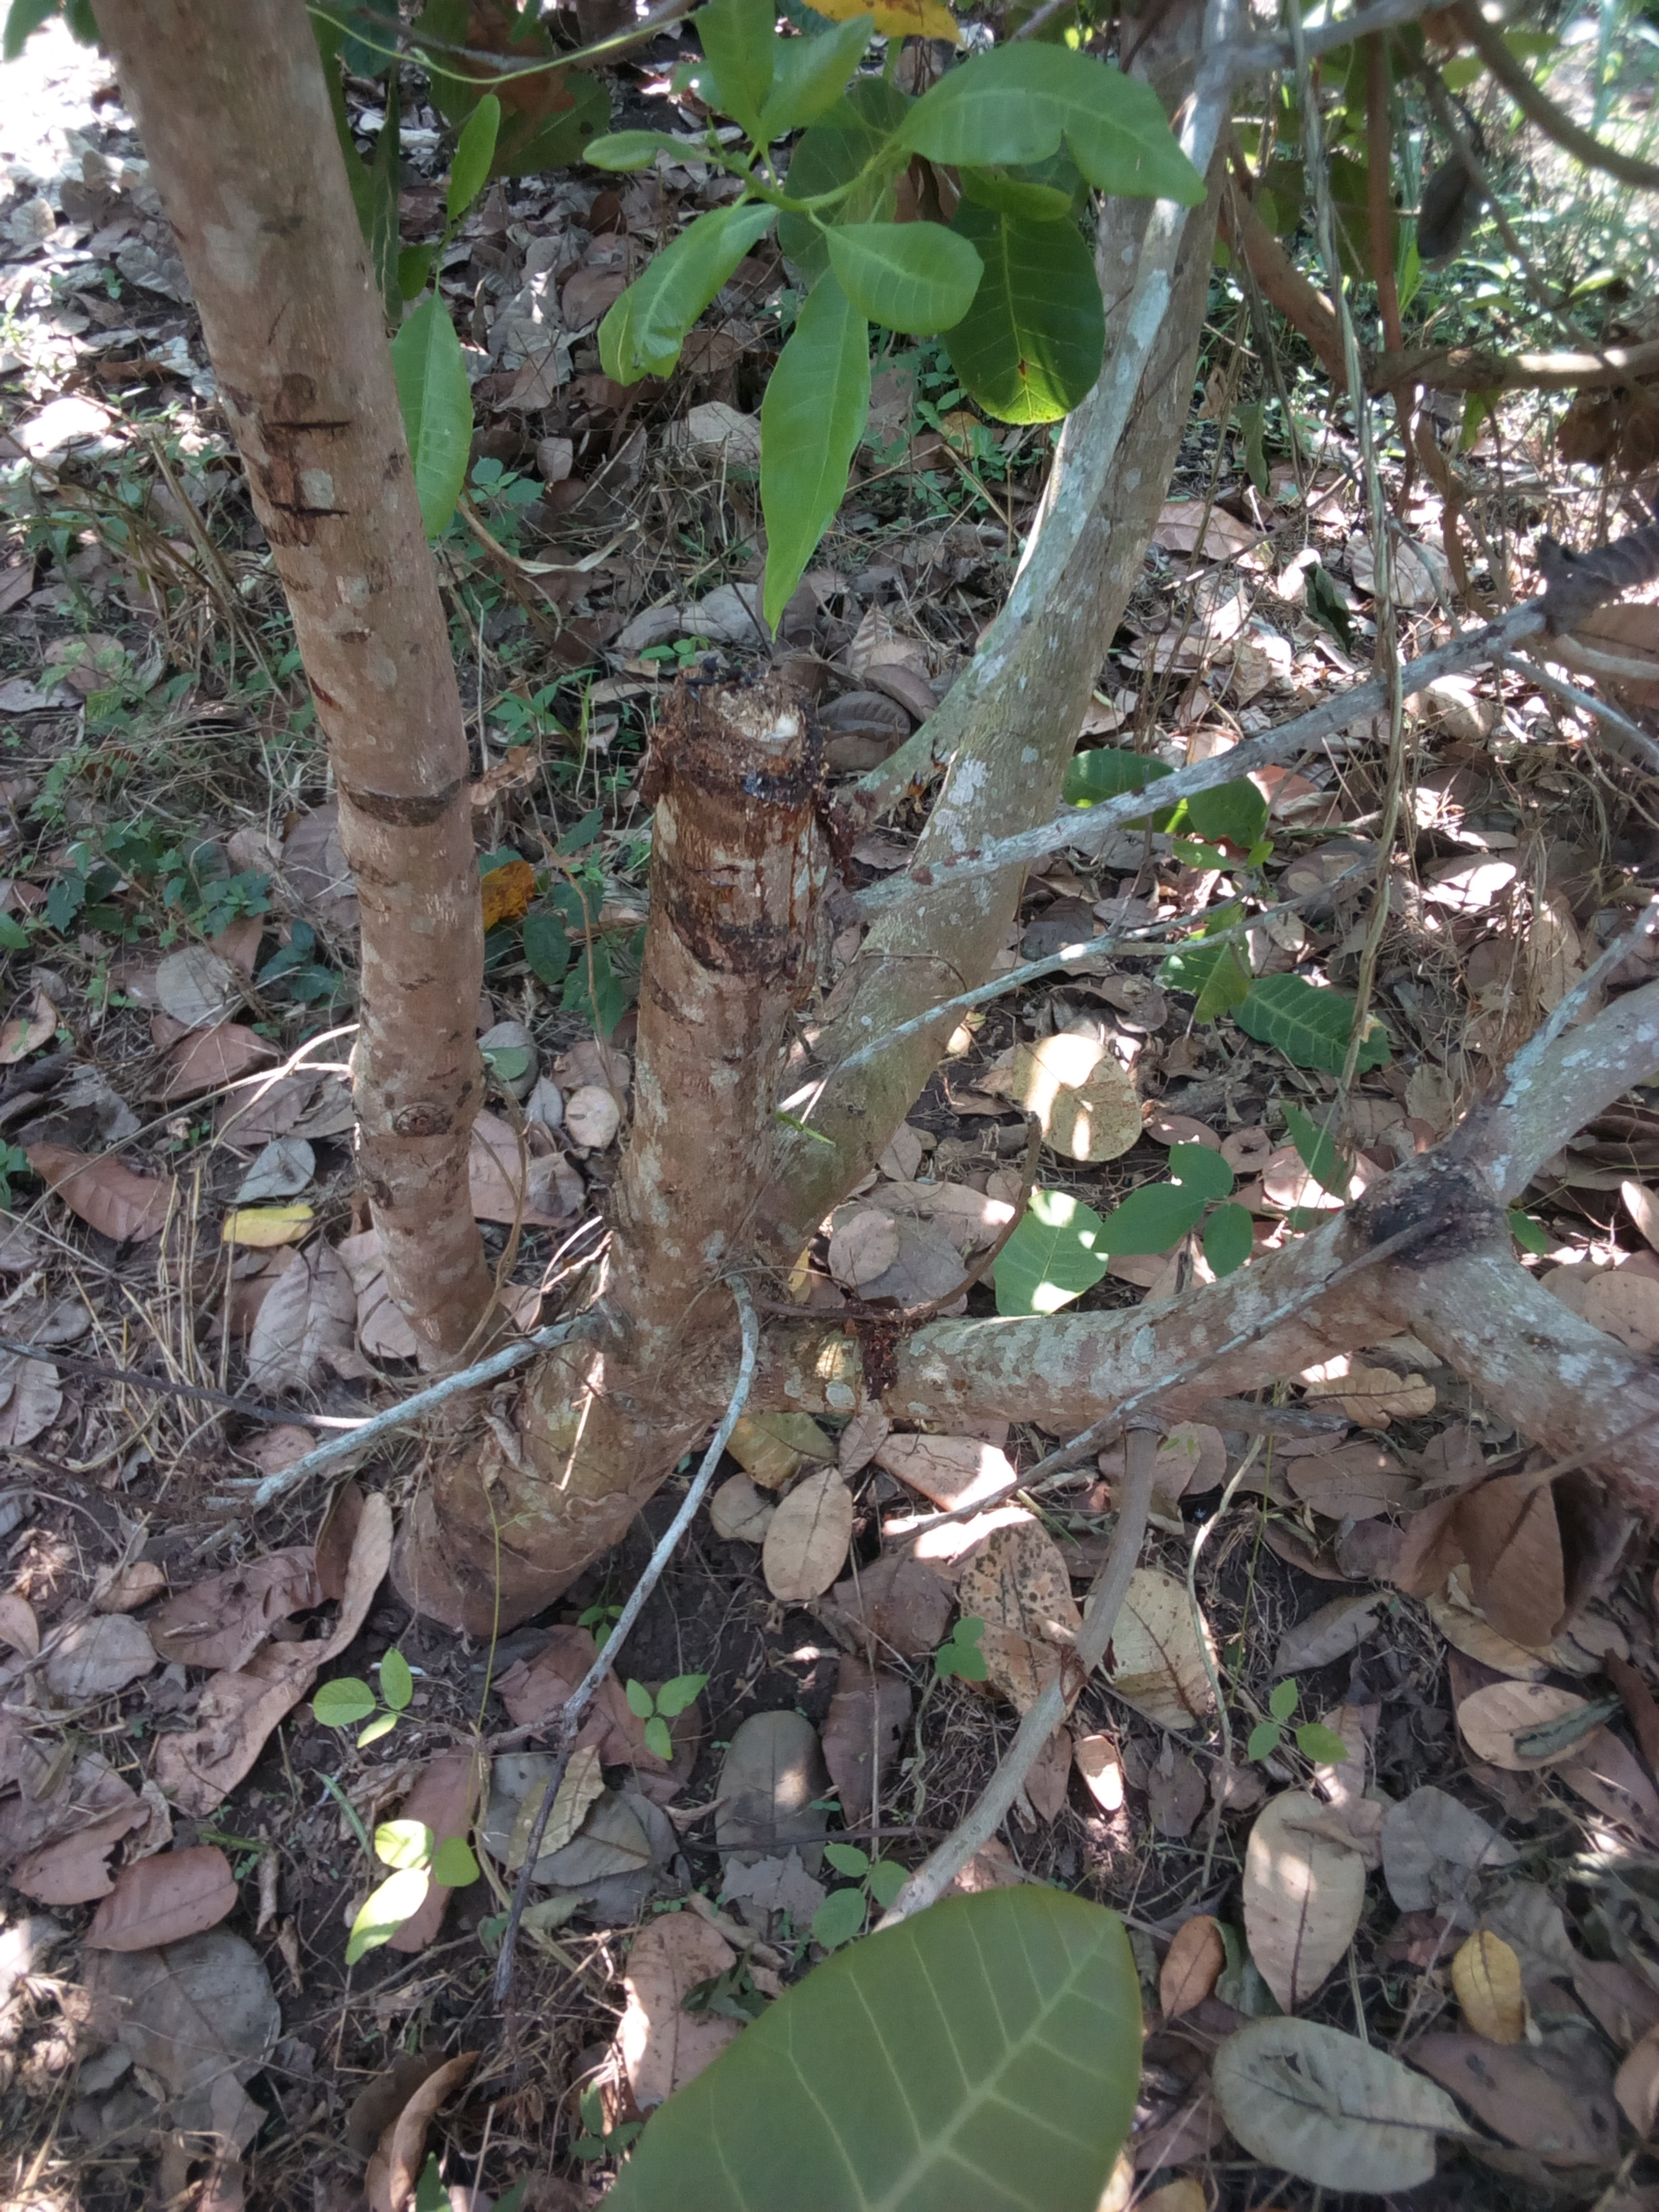Analepse trifasciata: (579, 636, 941, 876)
